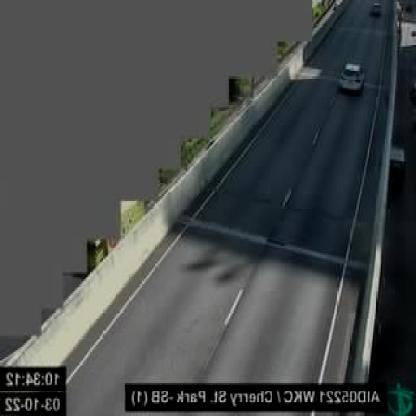Car: (340, 61, 366, 90)
